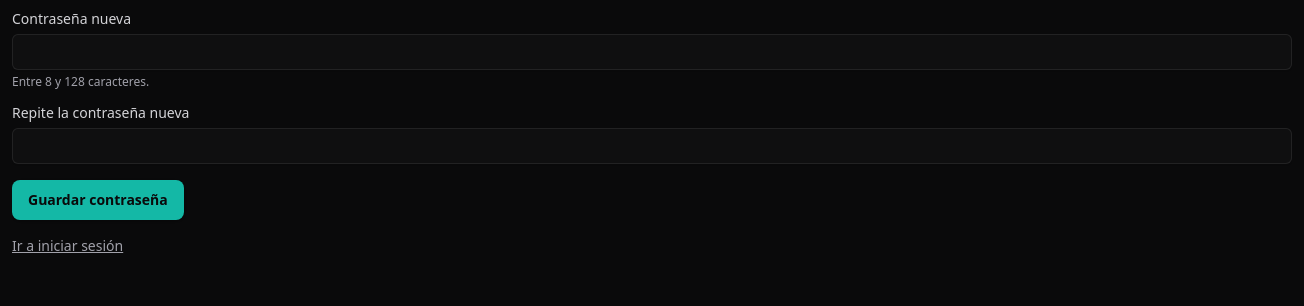
Test: ResetPasswordForm: con token válido › un fallo de la acción no redirige y deja el formulario editable
Type "abcdefgh" into the password field labelled "Contraseña nueva". click: (652, 52)
box: [12, 34, 1292, 70]
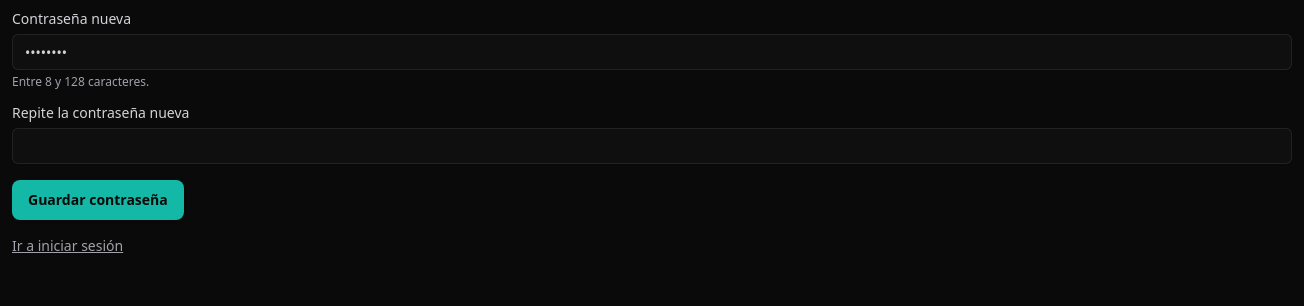
Type "abcdefgh" into the password field labelled "Repite la contraseña nueva". click: (652, 146)
box: [12, 128, 1292, 164]
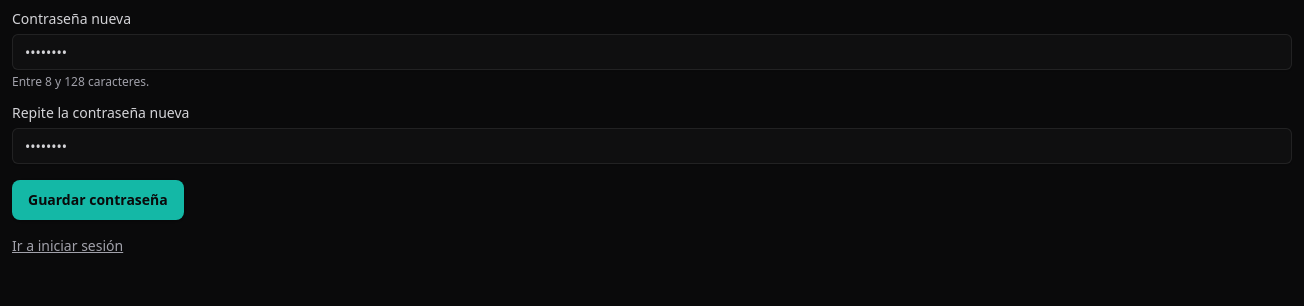
Submit the form
Wait 5000 ms
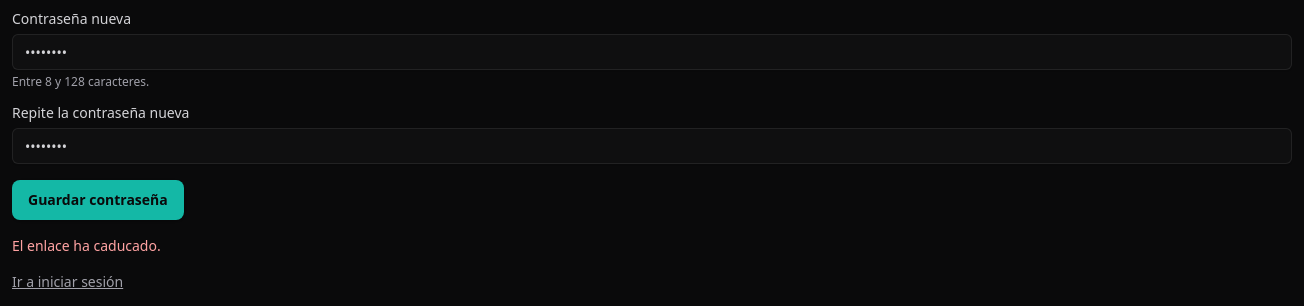
Expected: the password field labelled "Contraseña nueva" is enabled, [12, 34, 1292, 70]
Now the message reads "El enlace ha caducado.", box [12, 236, 161, 255]
